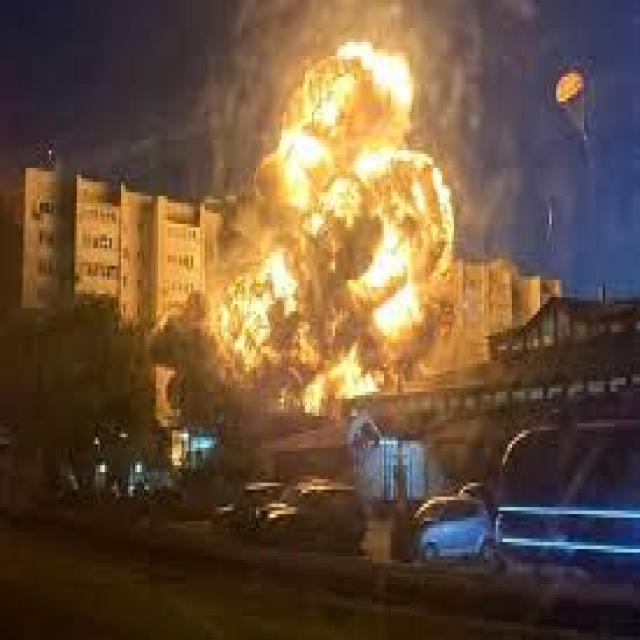fire: (226, 42, 461, 409)
